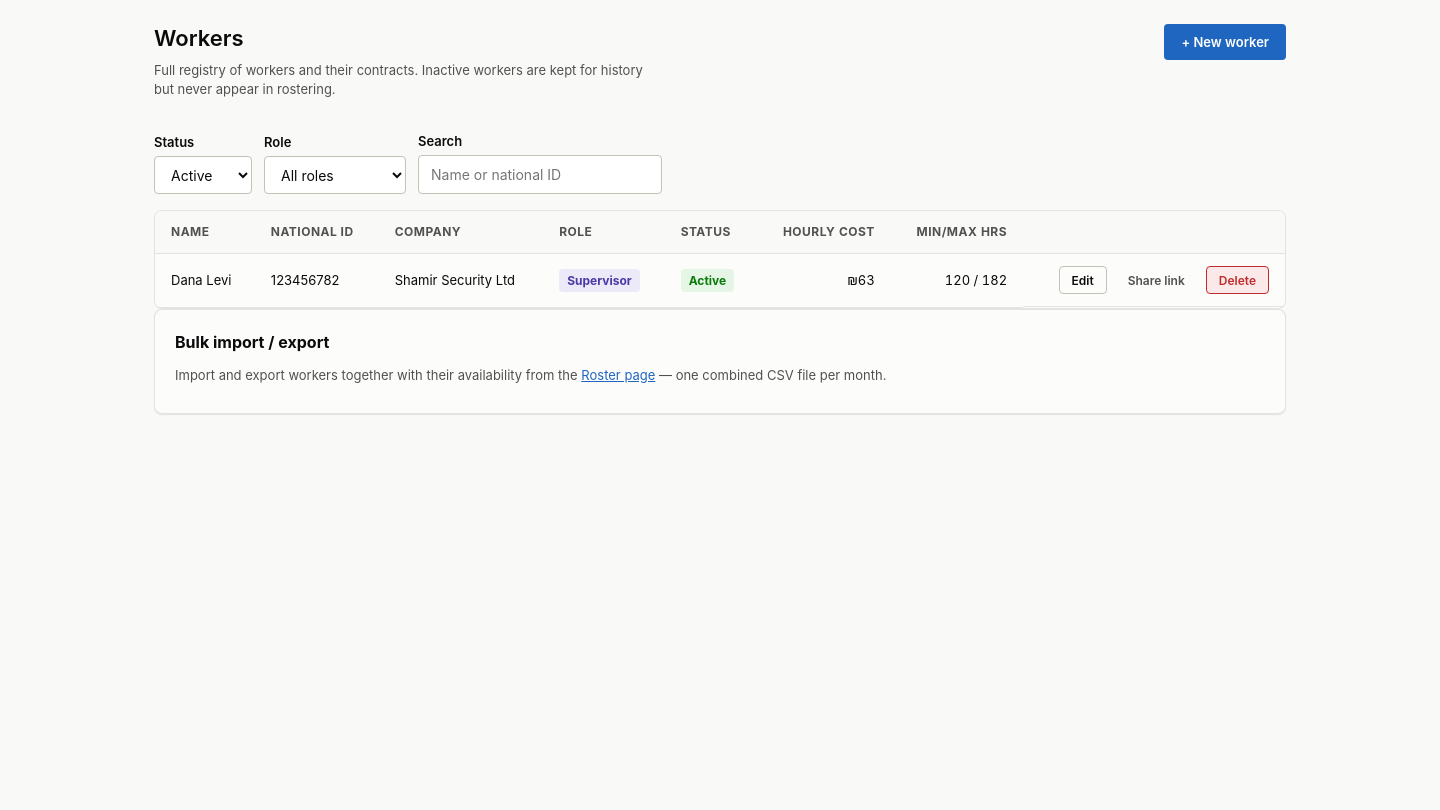
Test: WorkersPage › offers "Set Inactive" when deleting a worker with shift history (409)
The width and height of the screenshot is (1440, 810).
Expected: the text "Dana Levi" is shown, [155, 254, 255, 307]
Step 1. Click the button "Delete" → {"x": 1237, "y": 280}, box [1206, 266, 1269, 294]
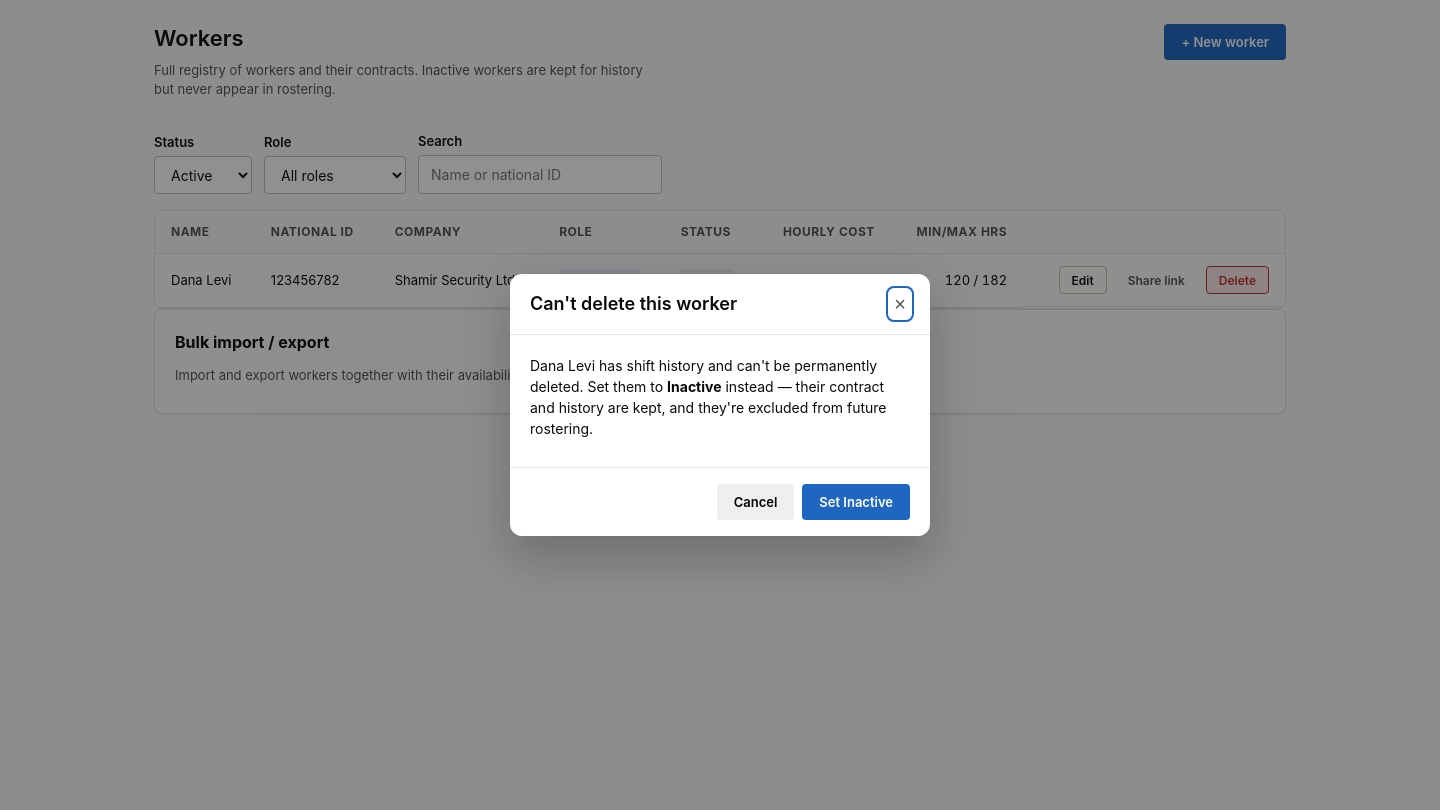
Expected: the text "has shift history and can't be permanently deleted" is shown, [530, 357, 877, 395]
Step 2. Click the button "Set Inactive" → {"x": 856, "y": 502}, box [802, 484, 910, 520]
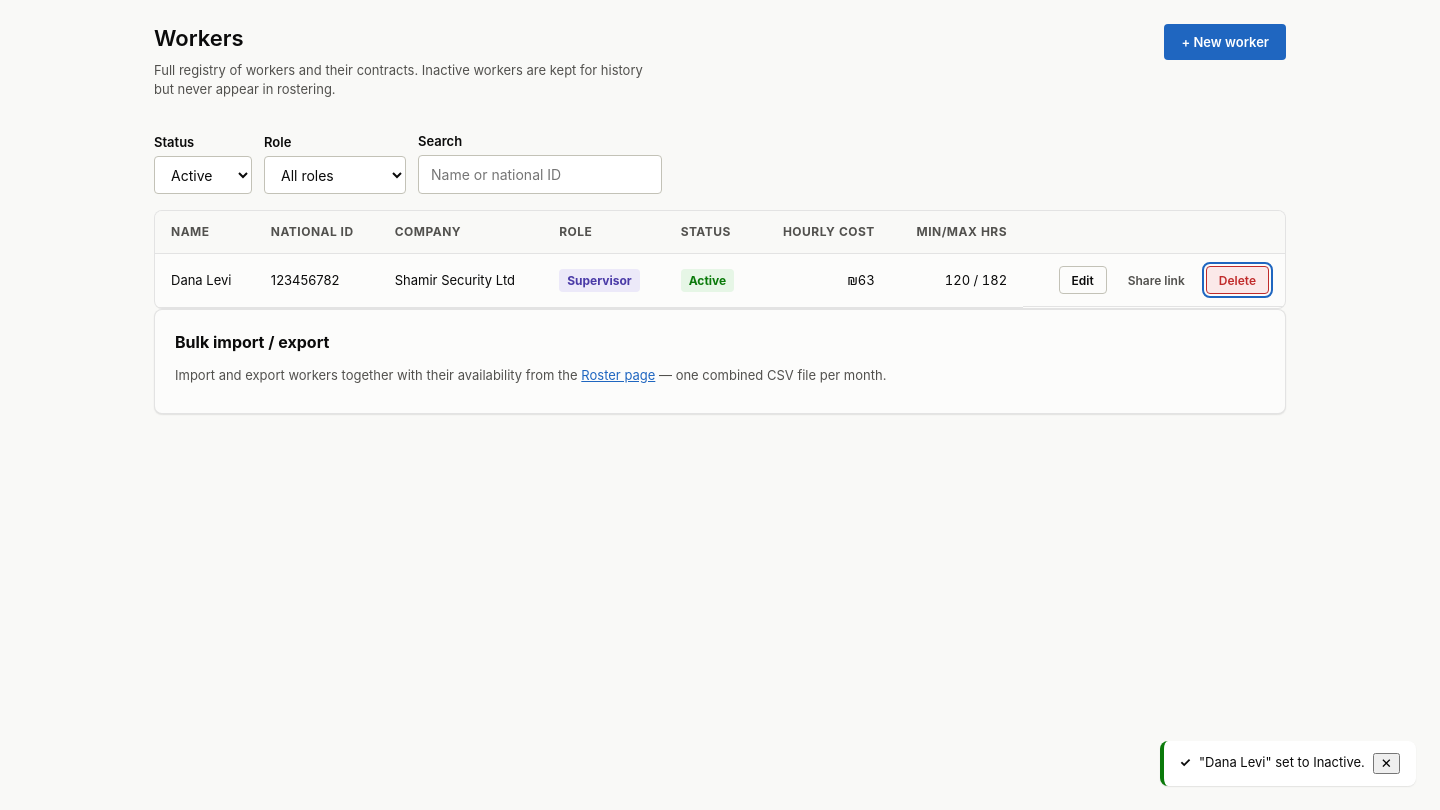
Expected: the text "\"Dana Levi\" set to Inactive." is shown, [1199, 753, 1365, 772]
